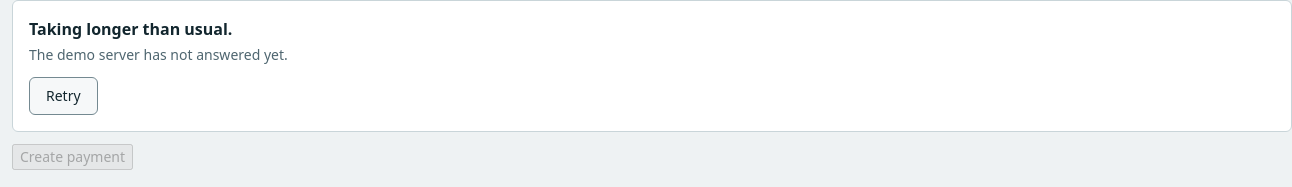
it: WakeGate › starts waking again on Retry and keeps focus in the panel
Click the button "Retry" at (63, 96), box [29,77,98,115]
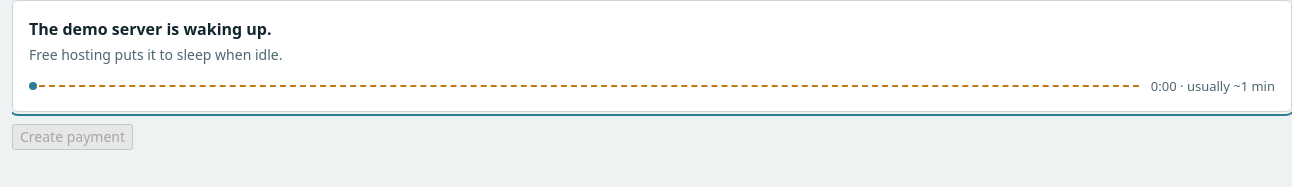
Expected: the message shows "The demo server is waking up.", [29,18,272,40]
